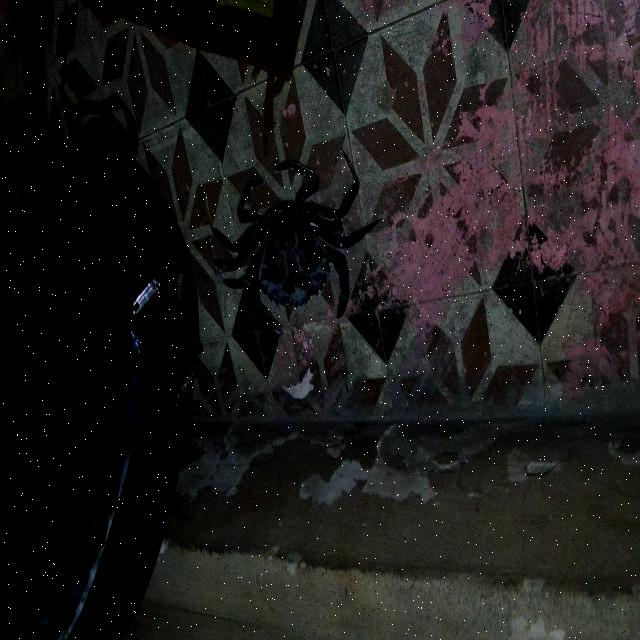European_Green_Crab: (203, 121, 379, 366)
